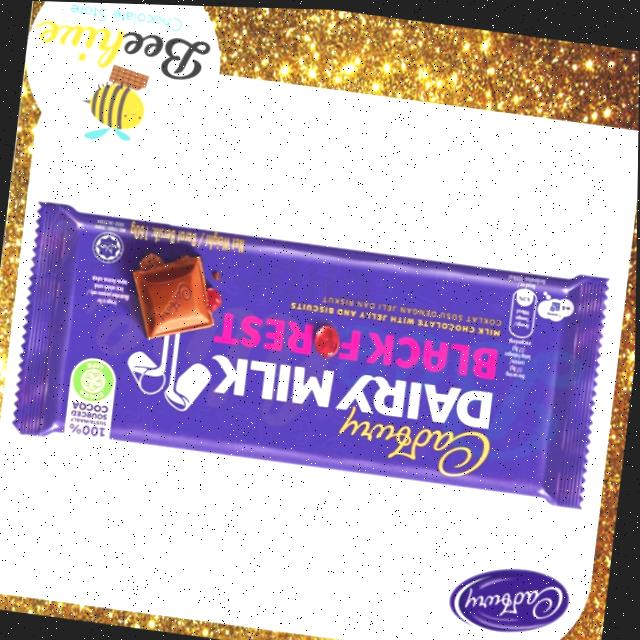cadbury: (0, 172, 627, 528)
